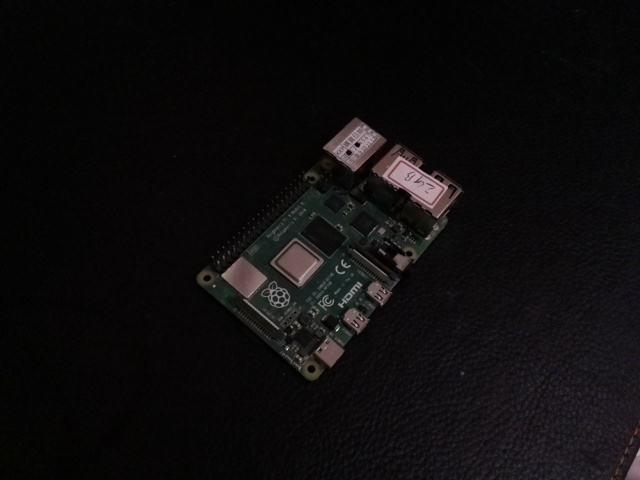pi4: (155, 92, 468, 405)
